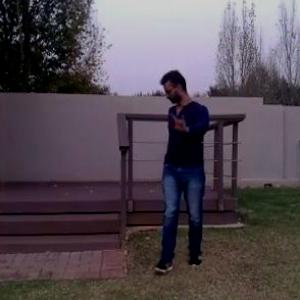takeoff-hand: (170, 105, 195, 138)
